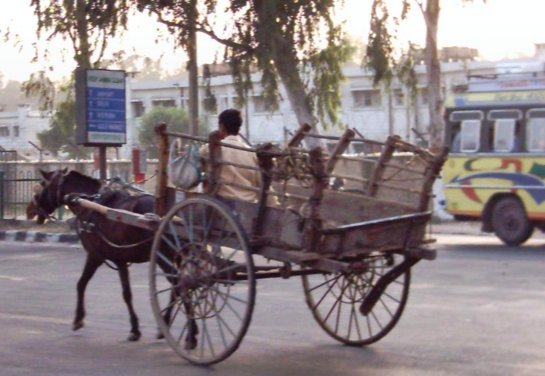horse: (24, 163, 201, 352)
